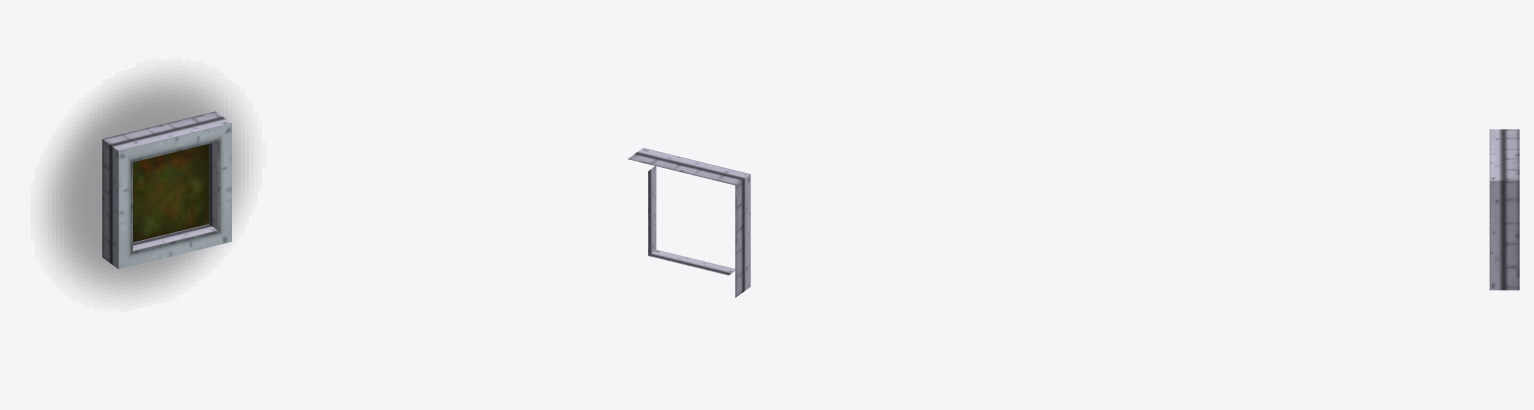
Rendered from prop_snow_tree_small_brickbox_ul.glb.
3 renders of one model, left to right at view 1: azimuth 30°, elevation 25°; view 2: azimuth 150°, elevation 25°; view 3: azimuth 270°, elevation 25°, orthographic. The views are drawn at different scales.
Parts seen in each view (by area): view 1: tree_box_planter_bricks_2, shadow_snow_tree_small_brickbox_ul; view 2: tree_box_planter_bricks_2; view 3: tree_box_planter_bricks_2.
Part boxes in pixels (x1,y1,x2,y2): tree_box_planter_bricks_2: (102, 111, 231, 269); shadow_snow_tree_small_brickbox_ul: (47, 76, 244, 293); tree_box_planter_bricks_2: (628, 148, 750, 297); tree_box_planter_bricks_2: (1489, 129, 1519, 290).
Size of the model in its own units: 13.99 by 12.32 by 23.14.
4 materials, 4 textured.
